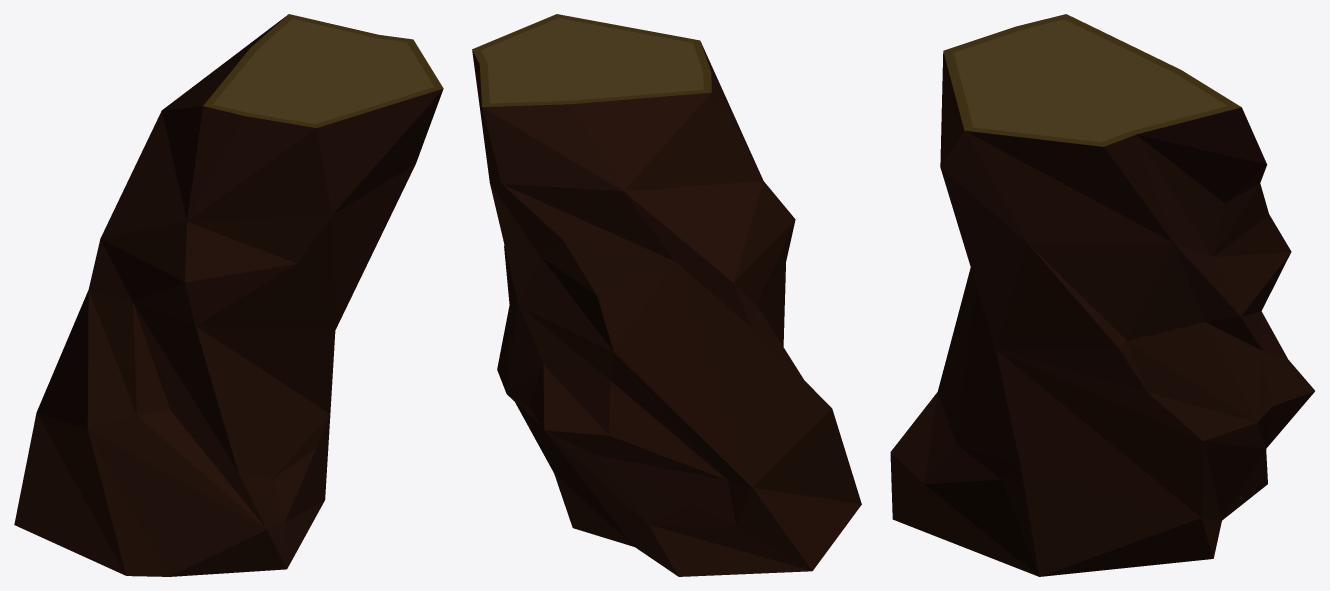
File: tree dead.FBX
3 views of the same model, side by side, from view 1: azimuth 30°, elevation 25°; view 2: azimuth 150°, elevation 25°; view 3: azimuth 270°, elevation 25° (orthographic). The views are drawn at different scales.
Visible parts, largest first — view 1: tree dead; view 2: tree dead; view 3: tree dead.
Boxes of the visible parts, bbox=[...] form: tree dead: bbox=[14, 14, 443, 576]; tree dead: bbox=[472, 14, 861, 576]; tree dead: bbox=[890, 14, 1314, 576].
Bounding box in the file's own units: 0.9325 × 0.767 × 0.9969.
